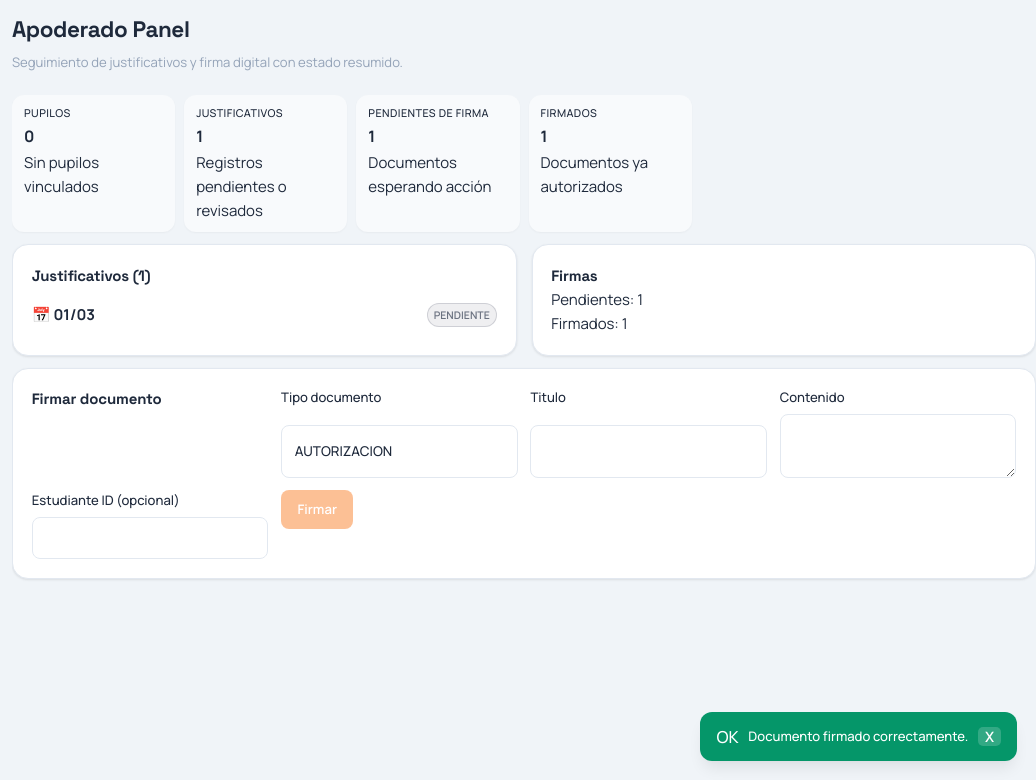
Test: ApoderadoPage › shows backend error when signing fails
expect the heading "Justificativos (1)" is shown: met, box [32, 264, 150, 288]
Step 1. Type "Autorizacion salida" into the field labelled "Titulo" → (649, 452), box [530, 425, 767, 478]
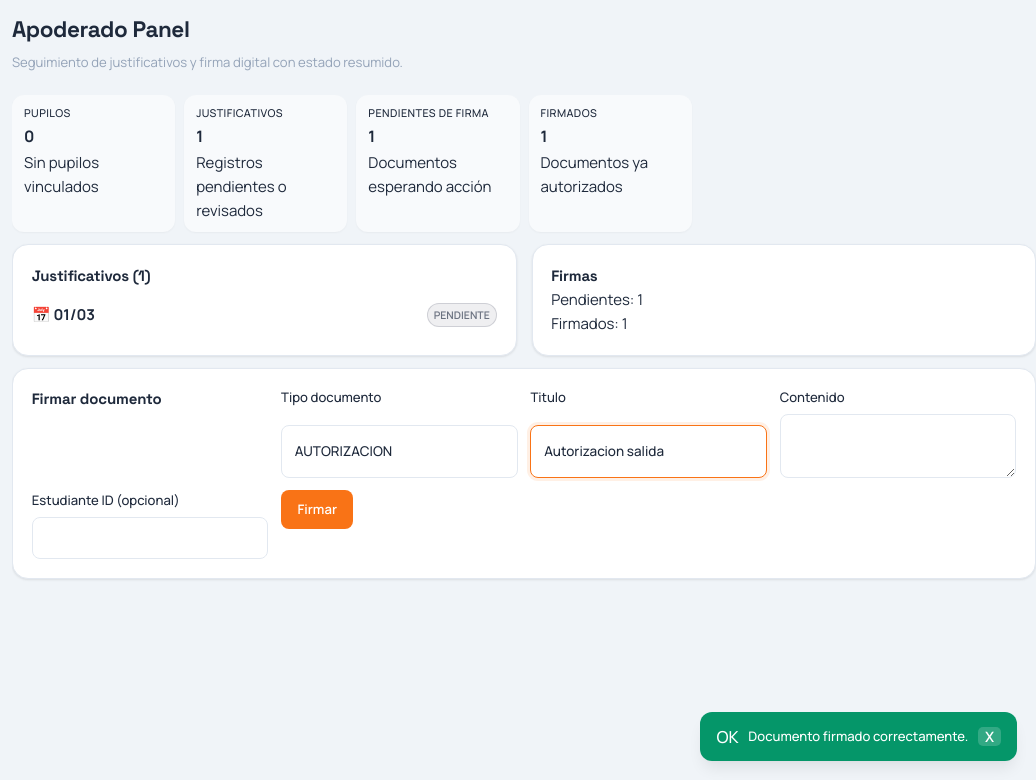
Step 2. Click the button "Firmar" → (317, 510), box [281, 490, 354, 529]
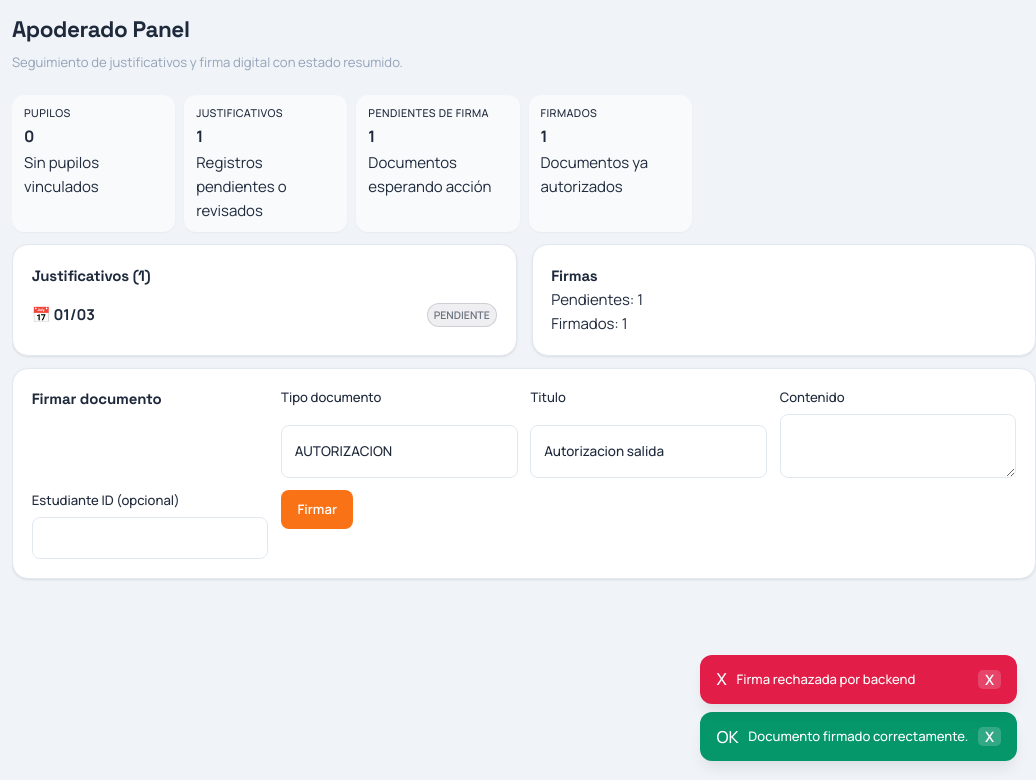
expect the text "Firma rechazada por backend" is shown: met, box [736, 670, 915, 688]
